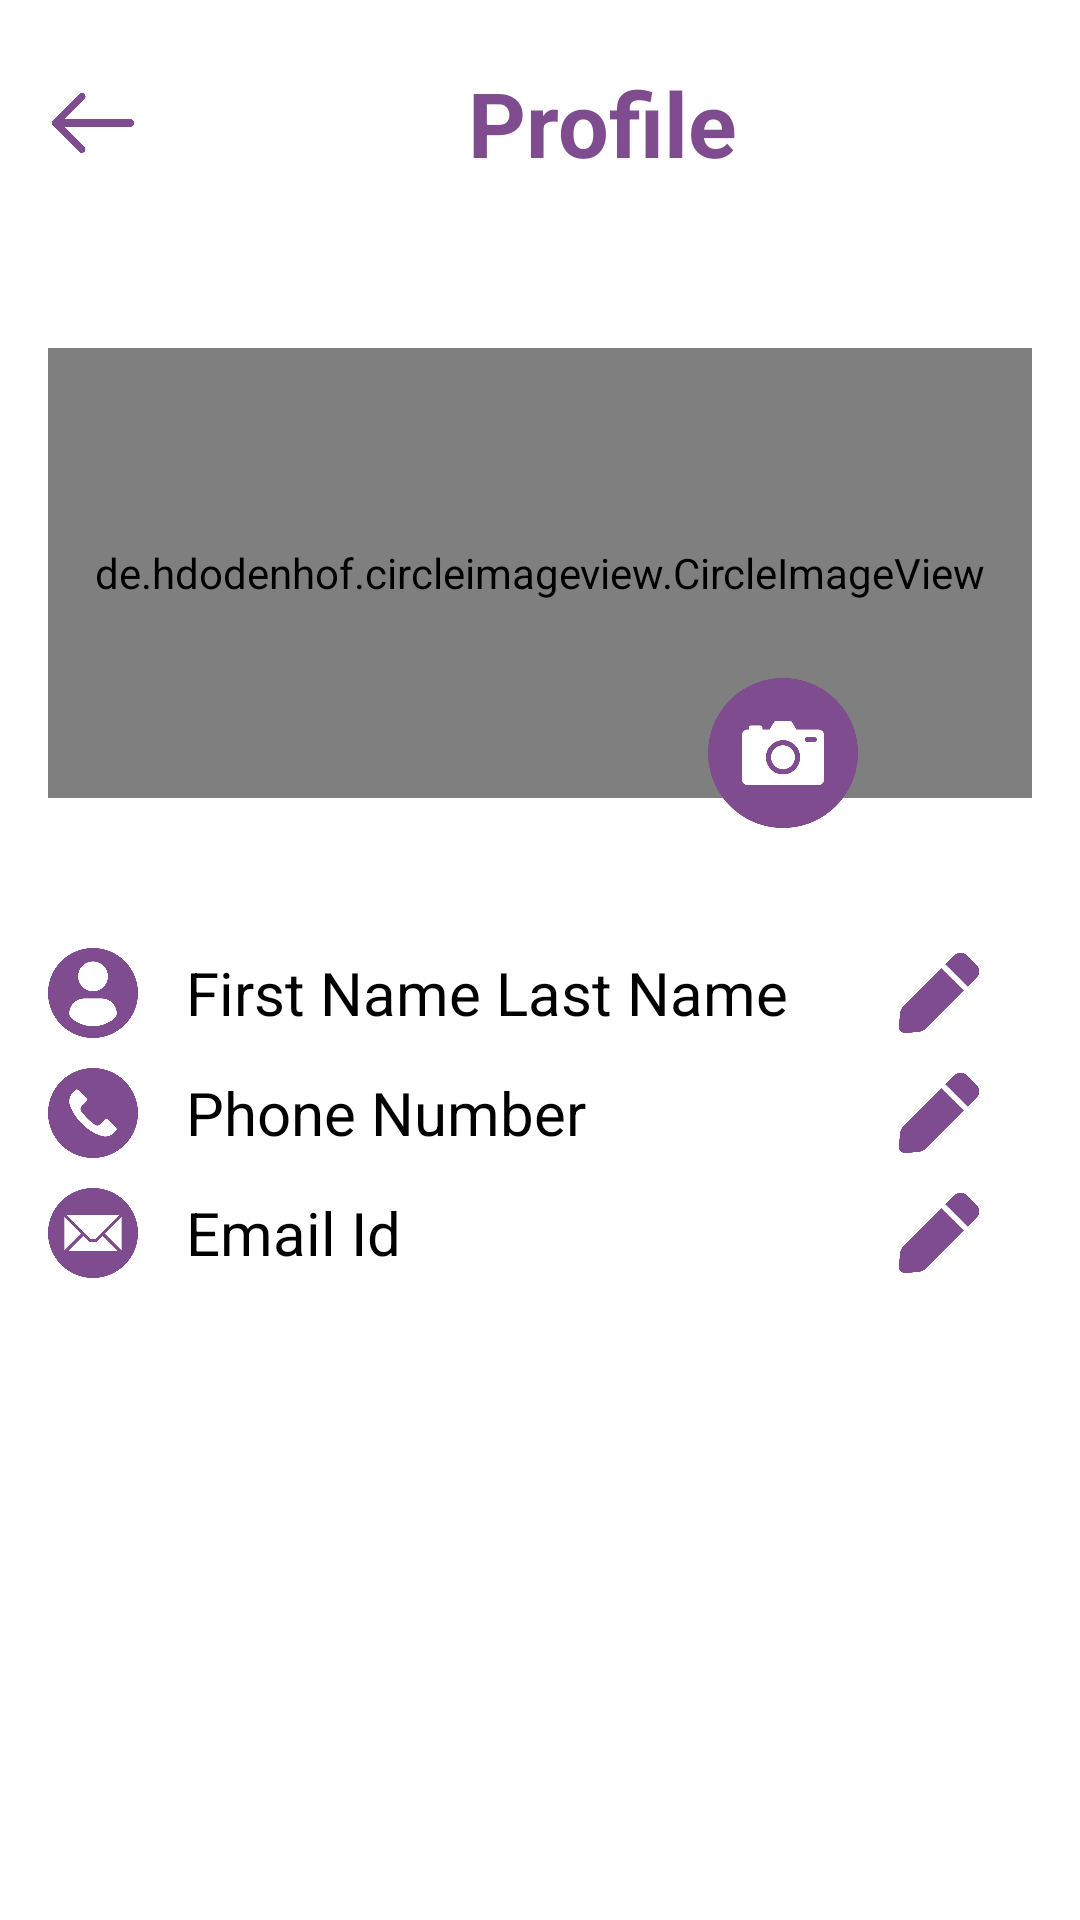

Icon click points for this 1080*1920 phone screenshot, format (x,y):
back wp: (93,123)
cameraaaa: (783,753)
edit: (939,993), (939,1113), (939,1233)
emaill: (93,1233)
namee: (93,993)
phonee: (93,1113)
